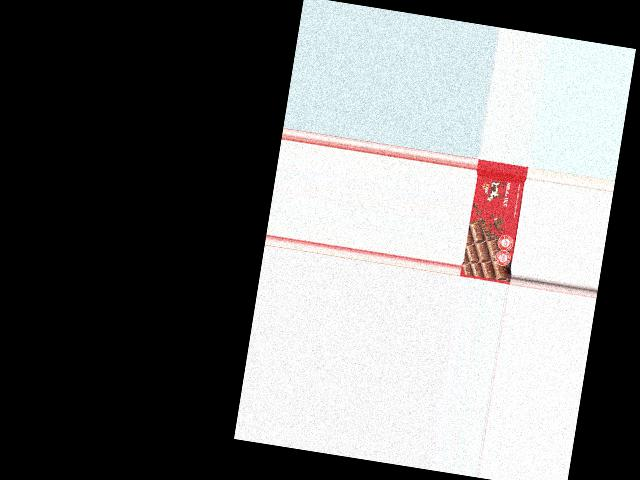chocolate: (460, 158, 528, 283)
